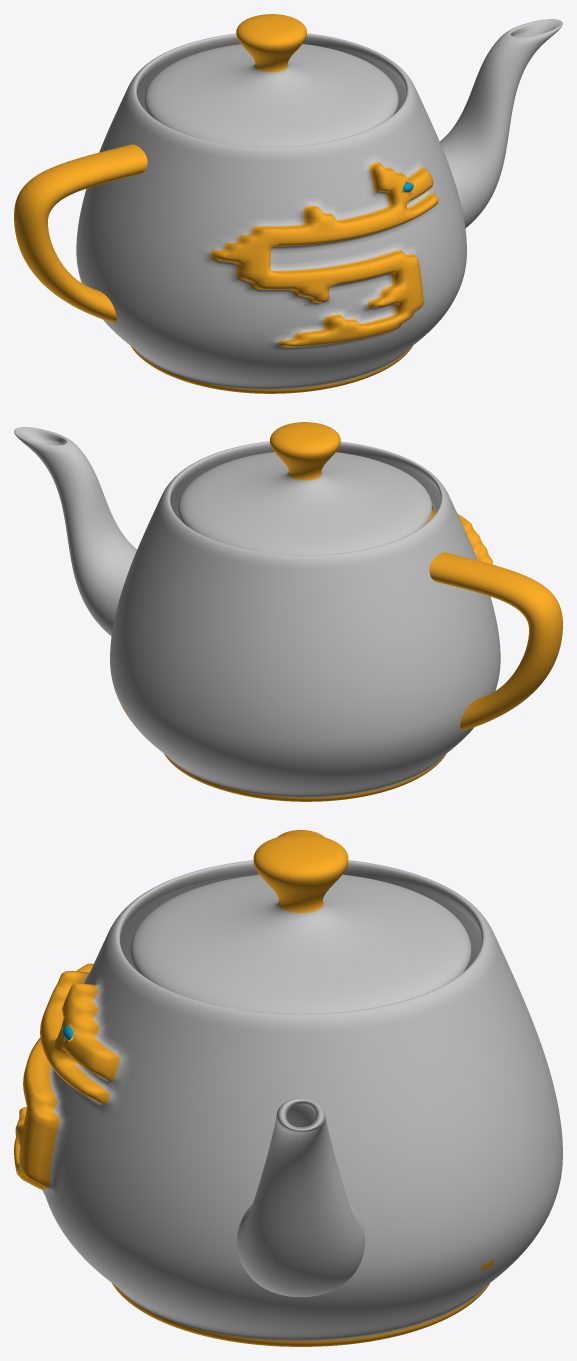
File: teapot.FBX
3 renders of one model, top to bottom at view 1: azimuth 30°, elevation 25°; view 2: azimuth 150°, elevation 25°; view 3: azimuth 270°, elevation 25°, orthographic. The views are drawn at different scales.
Visible parts, largest first — view 1: Teapot001; view 2: Teapot001; view 3: Teapot001.
Part boxes in pixels (left/top/right/bottom): Teapot001: left=14, top=14, right=562, bottom=393; Teapot001: left=14, top=422, right=562, bottom=801; Teapot001: left=14, top=830, right=562, bottom=1346.
Bounding box in the file's own units: 28.03 × 15.75 × 18.17.
